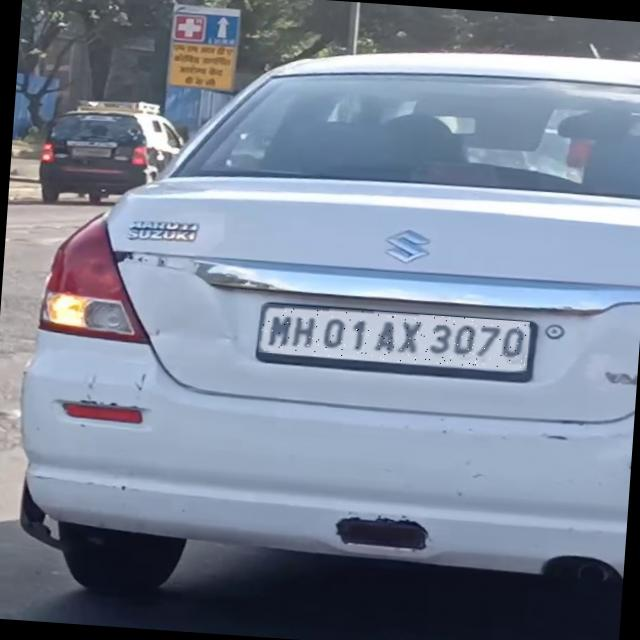Plate: (259, 304, 531, 372)
